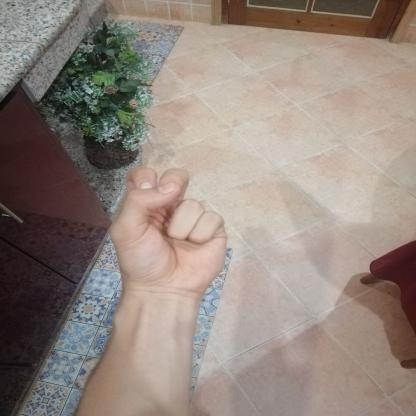QAAF: (95, 159, 242, 310)
